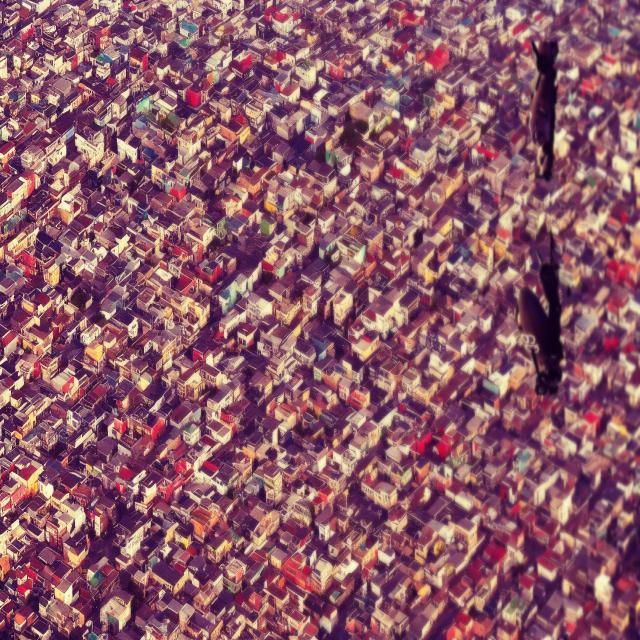airplane: (519, 228, 562, 394), (528, 39, 560, 181)
